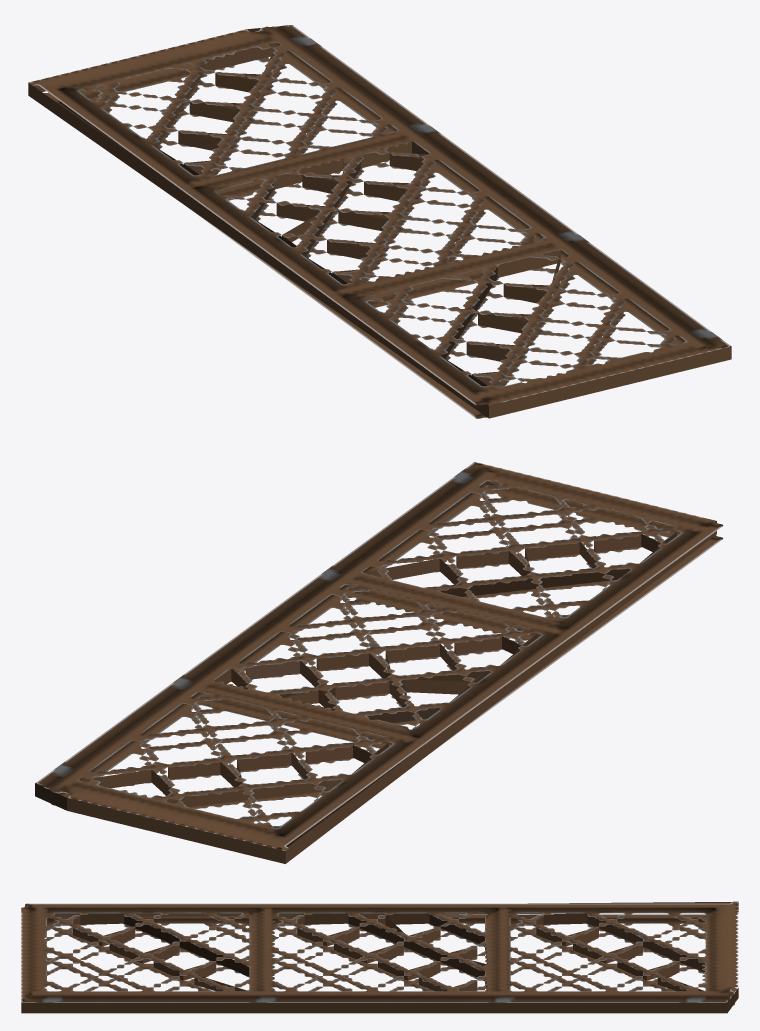
File: pz_native_fixtures_windows_church_21_frame.obj
3 renders of one model, top to bottom at view 1: azimuth 30°, elevation 25°; view 2: azimuth 150°, elevation 25°; view 3: azimuth 270°, elevation 25°, orthographic. The views are drawn at different scales.
Parts seen in each view (by area): view 1: pz_native_fixtures_windows_church_21_frame; view 2: pz_native_fixtures_windows_church_21_frame; view 3: pz_native_fixtures_windows_church_21_frame.
Part boxes in pixels (x1=…): pz_native_fixtures_windows_church_21_frame: x1=28, y1=25, x2=731, y2=418; pz_native_fixtures_windows_church_21_frame: x1=35, y1=462, x2=723, y2=863; pz_native_fixtures_windows_church_21_frame: x1=21, y1=901, x2=738, y2=1013.
Size of the model in its own units: 0.8906 by 0.04 by 2.54.
Materials: 1 (1 with a texture image).
